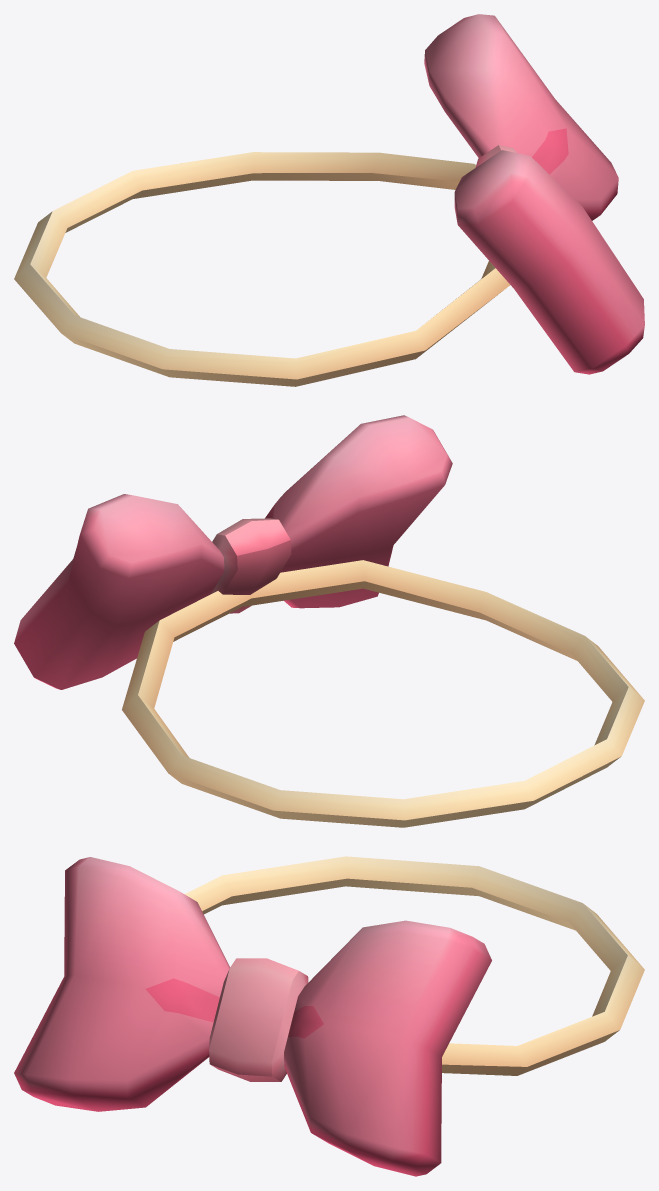
Rendered from Doll_OB_Vanity_001_4.fbx.
3 views of the same model, one above another, from view 1: azimuth 30°, elevation 25°; view 2: azimuth 150°, elevation 25°; view 3: azimuth 270°, elevation 25° (orthographic). The views are drawn at different scales.
Visible parts, largest first — view 1: Doll_OB_Vanity_001_4; view 2: Doll_OB_Vanity_001_4; view 3: Doll_OB_Vanity_001_4.
Part boxes in pixels (x1=…): Doll_OB_Vanity_001_4: x1=14, y1=14, x2=644, y2=386; Doll_OB_Vanity_001_4: x1=14, y1=415, x2=644, y2=827; Doll_OB_Vanity_001_4: x1=14, y1=856, x2=644, y2=1176.
Bounding box in the file's own units: 8.44 × 2.9 × 7.58.
